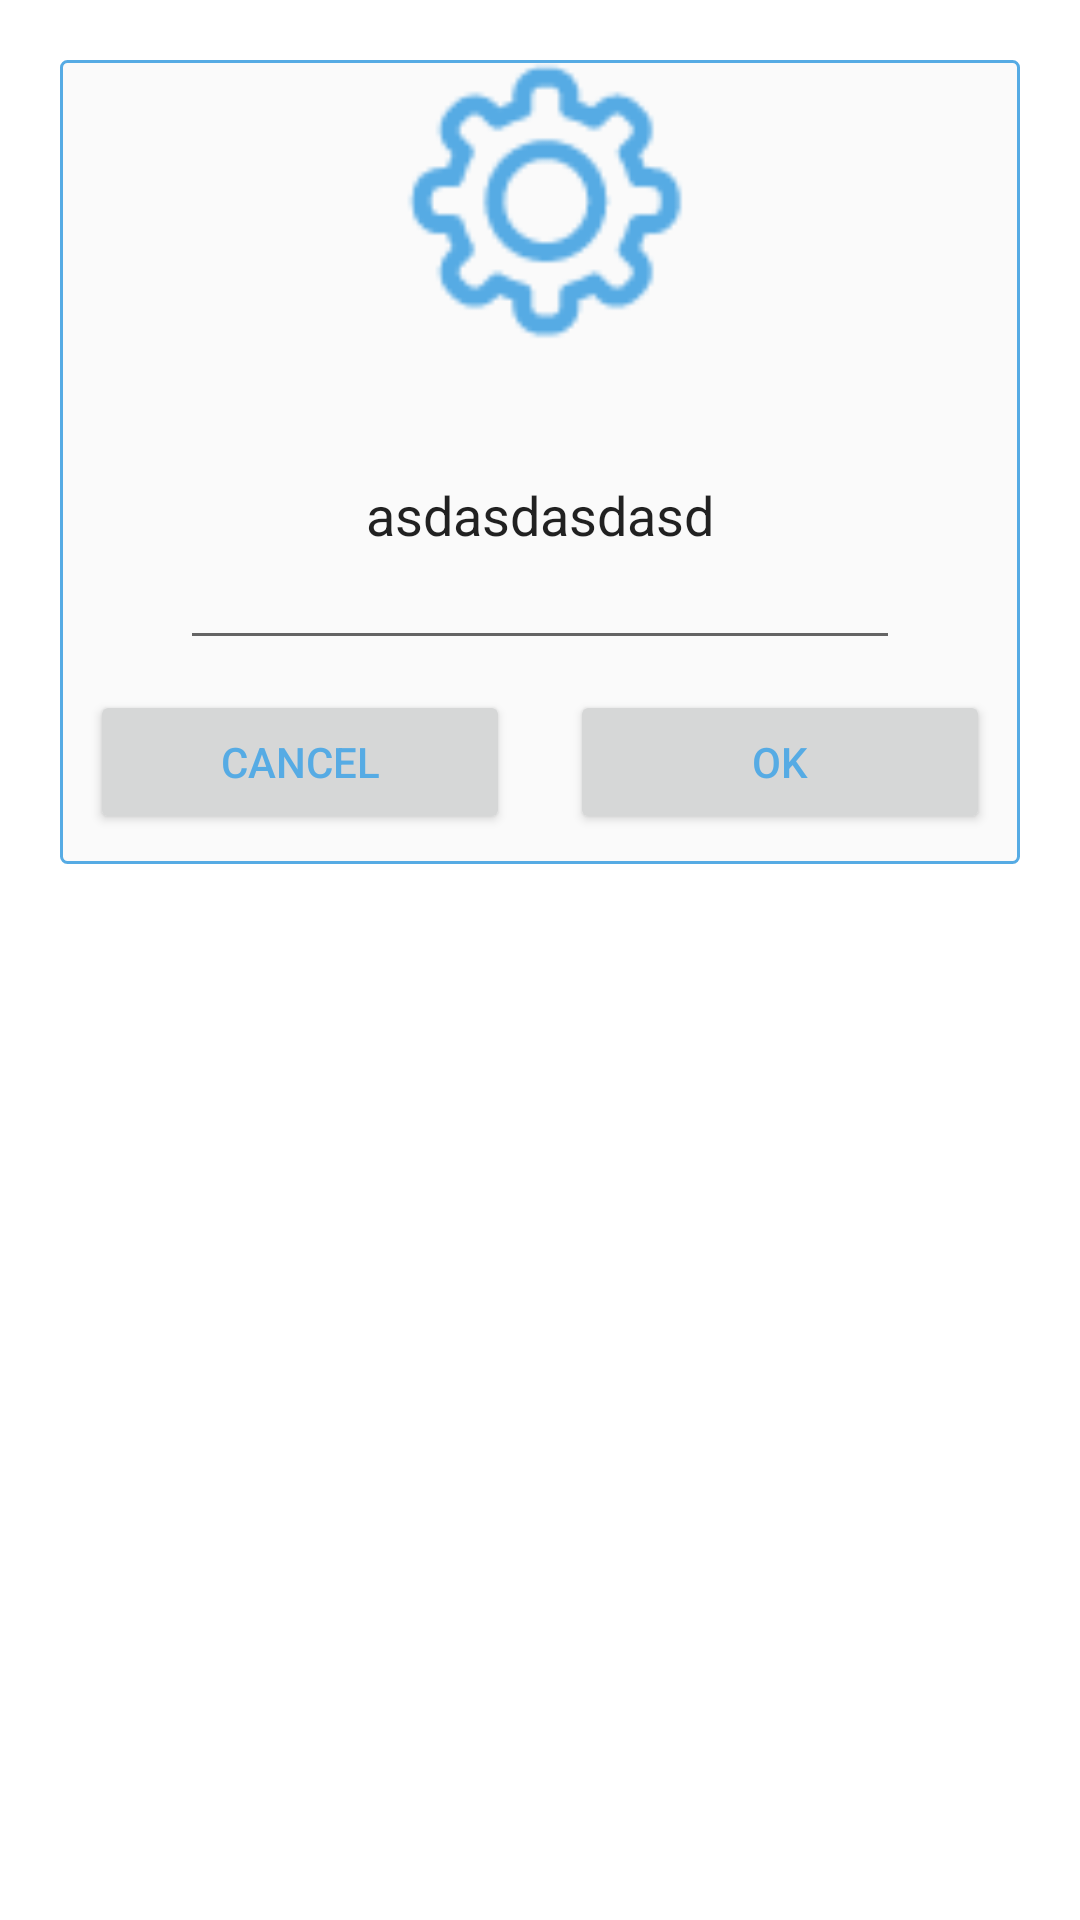

Where icons sit on this 1080 x 1920 app screen, as (x1, y1, x2, y2):
set: (409, 65, 682, 338)
